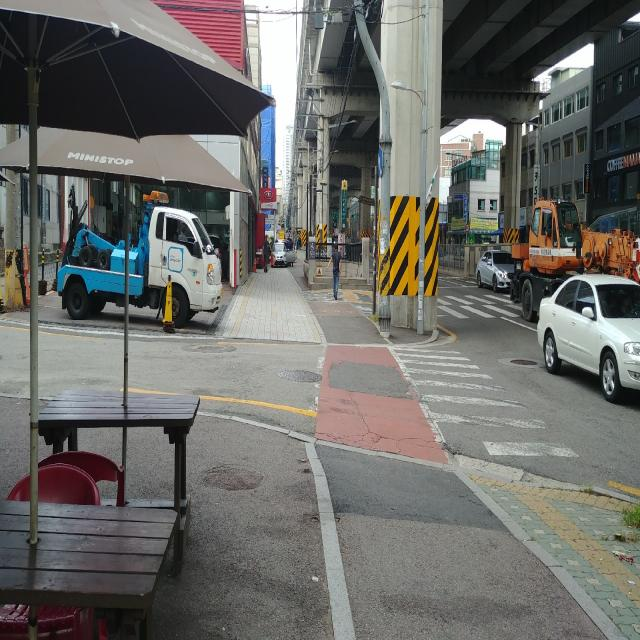횡단보도: (387, 344, 581, 461)
